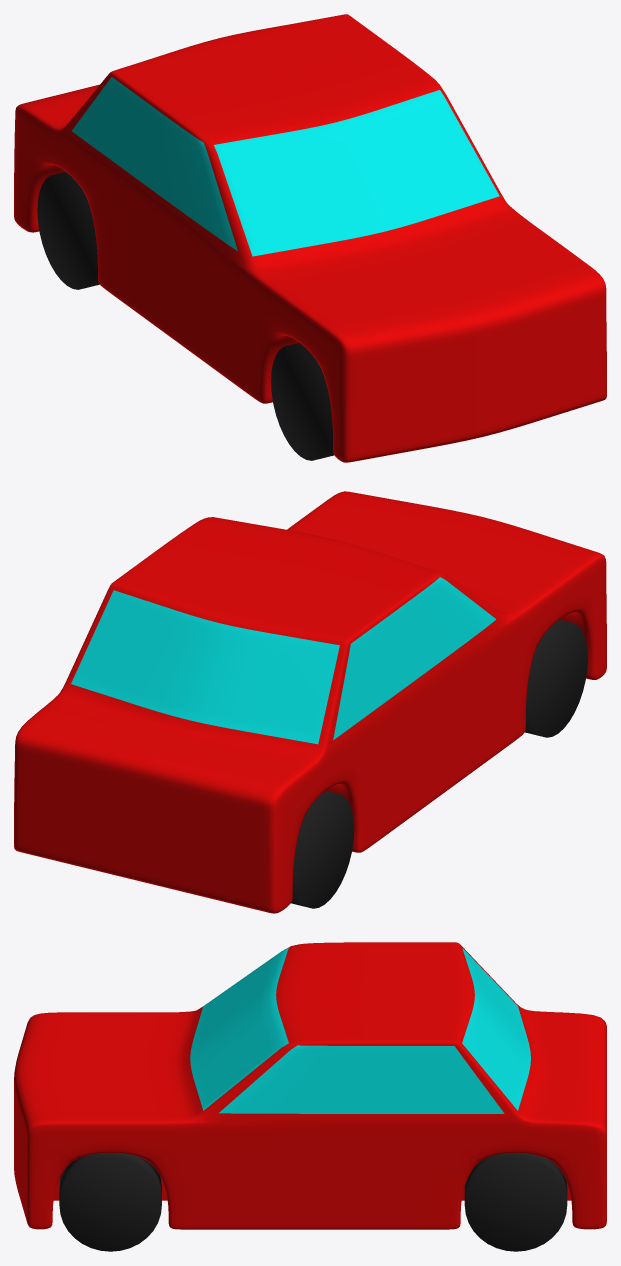
File: homemadeCar.fbx
3 views of the same model, one above another, from view 1: azimuth 30°, elevation 25°; view 2: azimuth 150°, elevation 25°; view 3: azimuth 270°, elevation 25° (orthographic). The views are drawn at different scales.
Parts seen in each view (by area): view 1: car, wheel.002, wheel.003; view 2: car, wheel.002, wheel.003; view 3: car, wheel.001, wheel.
Part boxes in pixels (x1,y1,x2,y2): car: (14, 14, 606, 462); wheel.002: (271, 343, 334, 460); wheel.003: (37, 172, 99, 289); car: (14, 491, 606, 913); wheel.002: (525, 619, 587, 737); wheel.003: (291, 791, 354, 908); car: (14, 942, 606, 1229); wheel.001: (59, 1153, 161, 1251); wheel: (464, 1153, 567, 1251).
Size of the model in its own units: 160 by 137 by 358.
